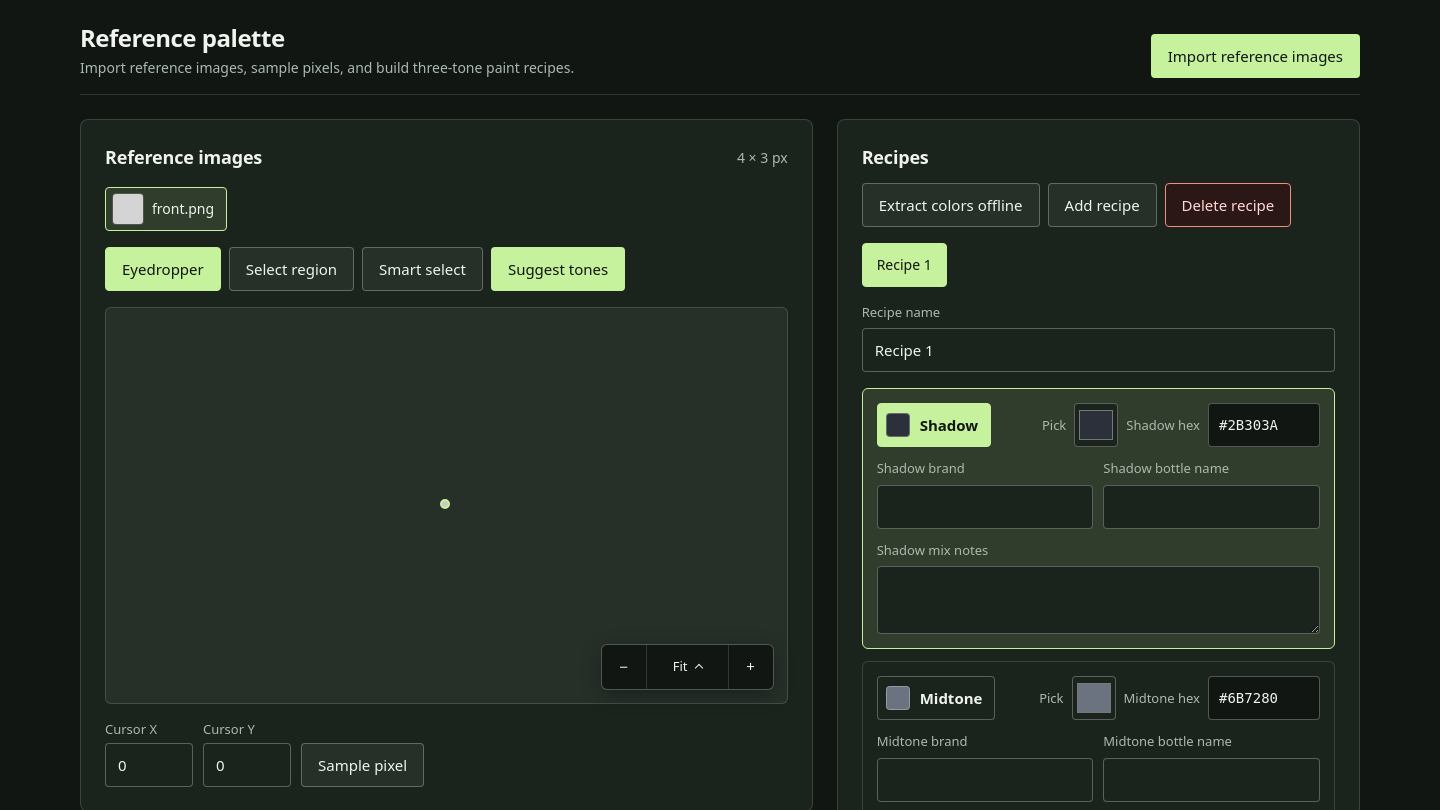
Test: PaletteWorkspace › still creates recipes offline without a desktop bridge
Earlier steps of the test are not shown.
expect the drawing with test id "reference-canvas" is shown: met, box [444, 504, 448, 507]
Click the button "Extract colors offline": [951, 205] box [862, 183, 1040, 227]
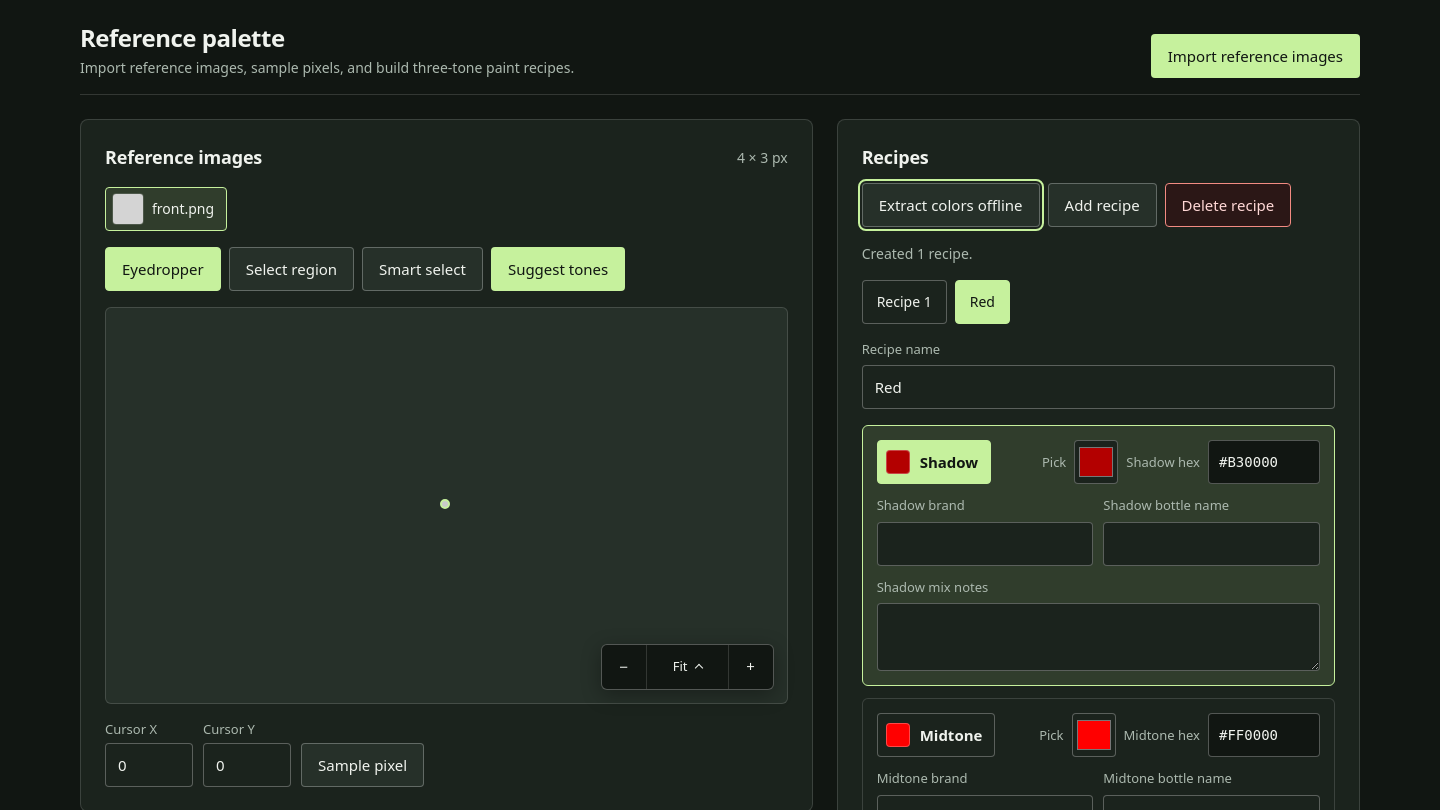
expect the message reads "Created 1 recipe.": met, box [862, 244, 973, 263]
expect the field labelled "Midtone hex" holds "#FF0000": met, box [1208, 713, 1320, 757]
